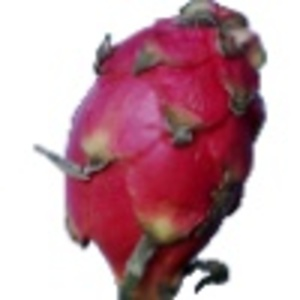pitaia: (37, 1, 269, 300)
